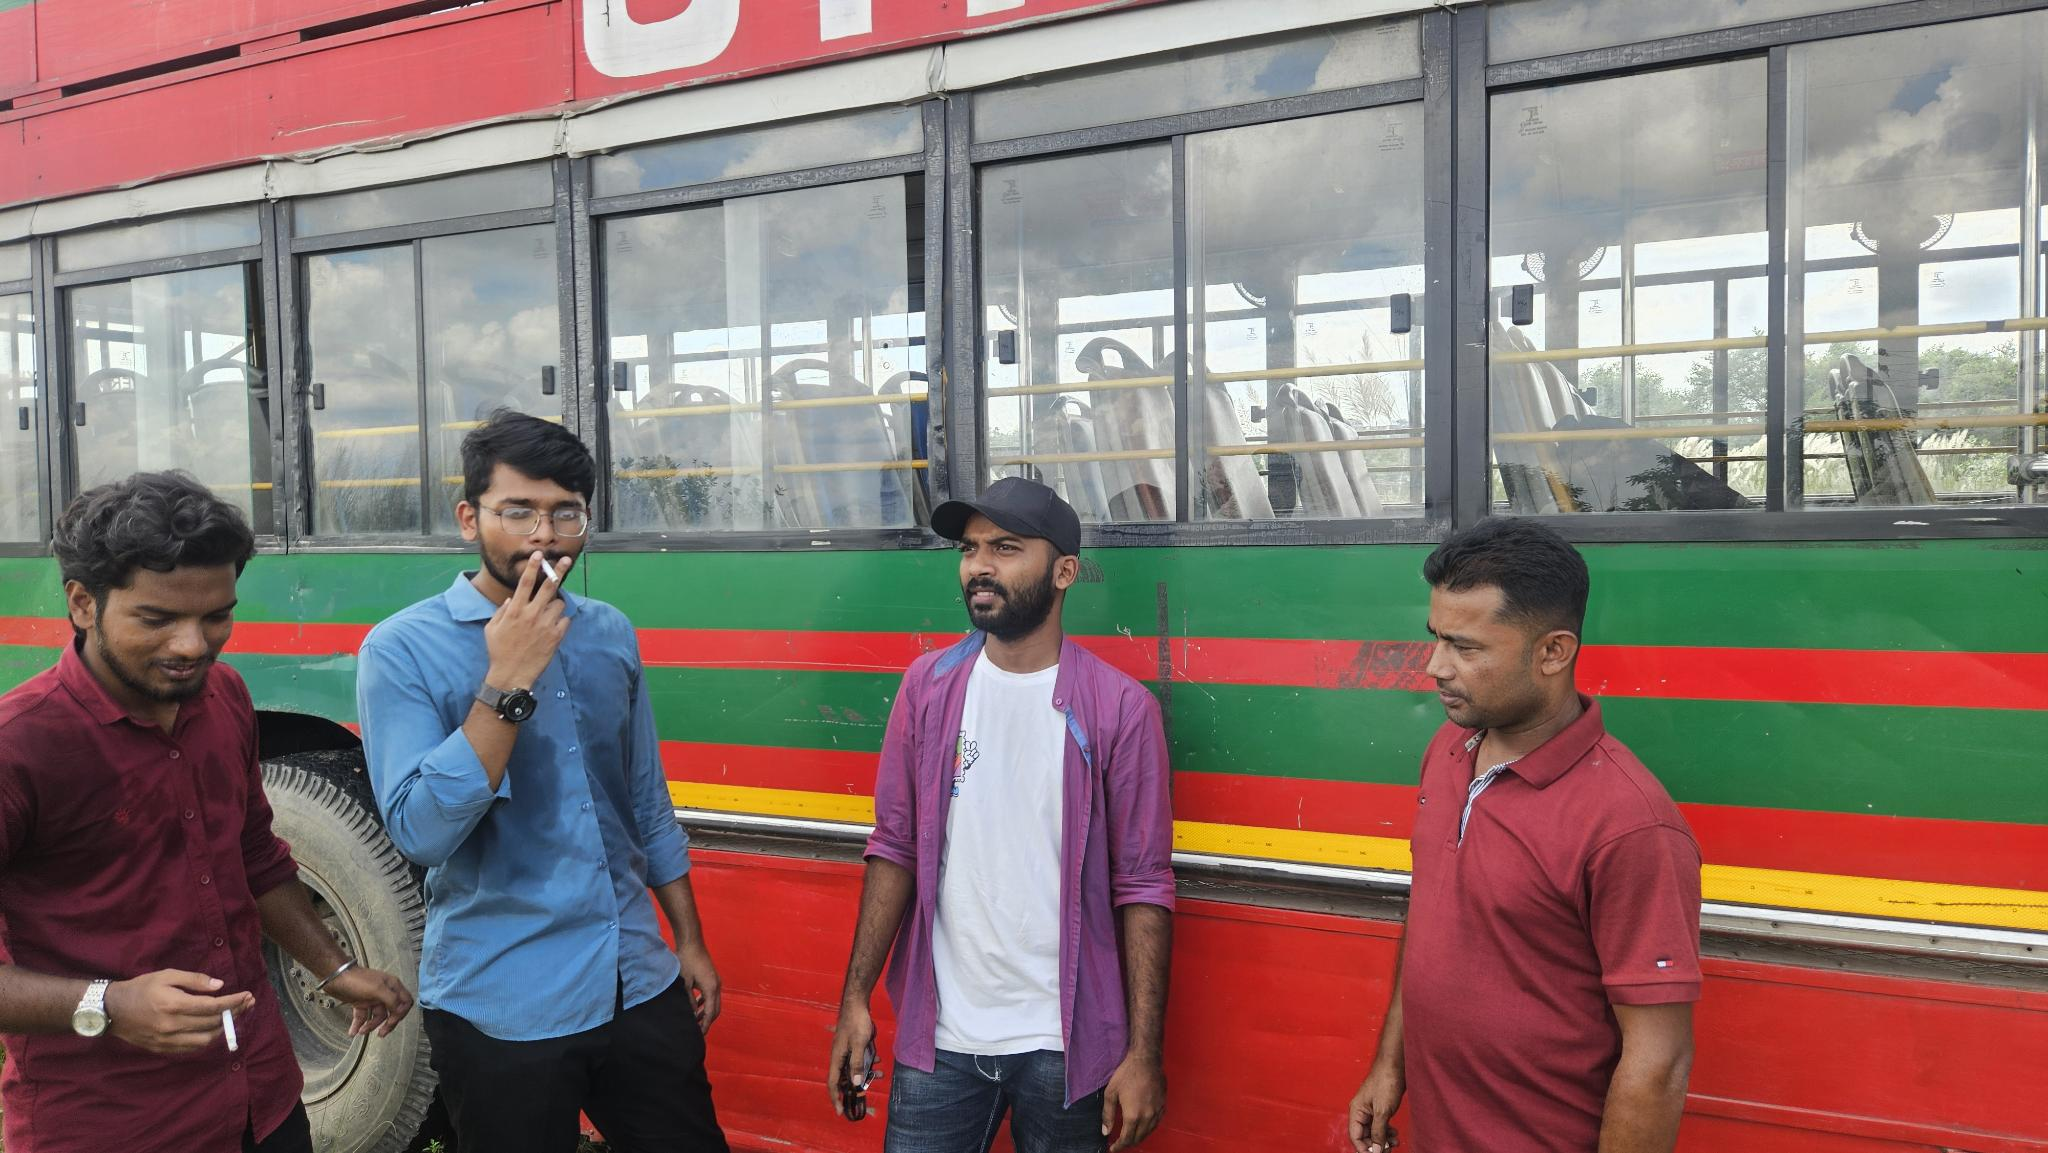cigarette: (218, 1005, 242, 1055), (539, 554, 564, 586)
nonSmoker: (828, 475, 1177, 1153), (1350, 519, 1703, 1153)
smoker: (1, 471, 414, 1153), (359, 411, 731, 1153)
